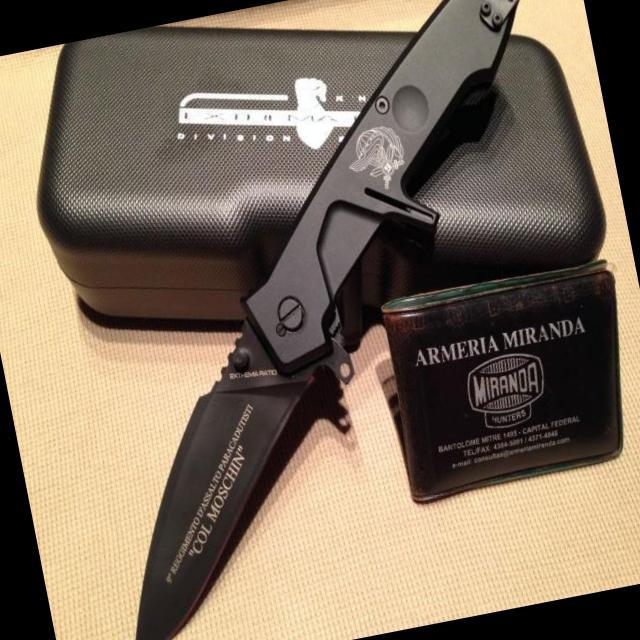Knife: (63, 285, 371, 640)
